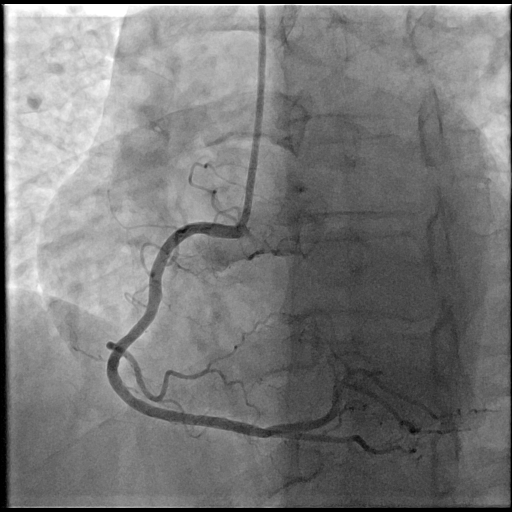RCA: (107, 222, 391, 454)
catherter: (235, 6, 266, 233)
